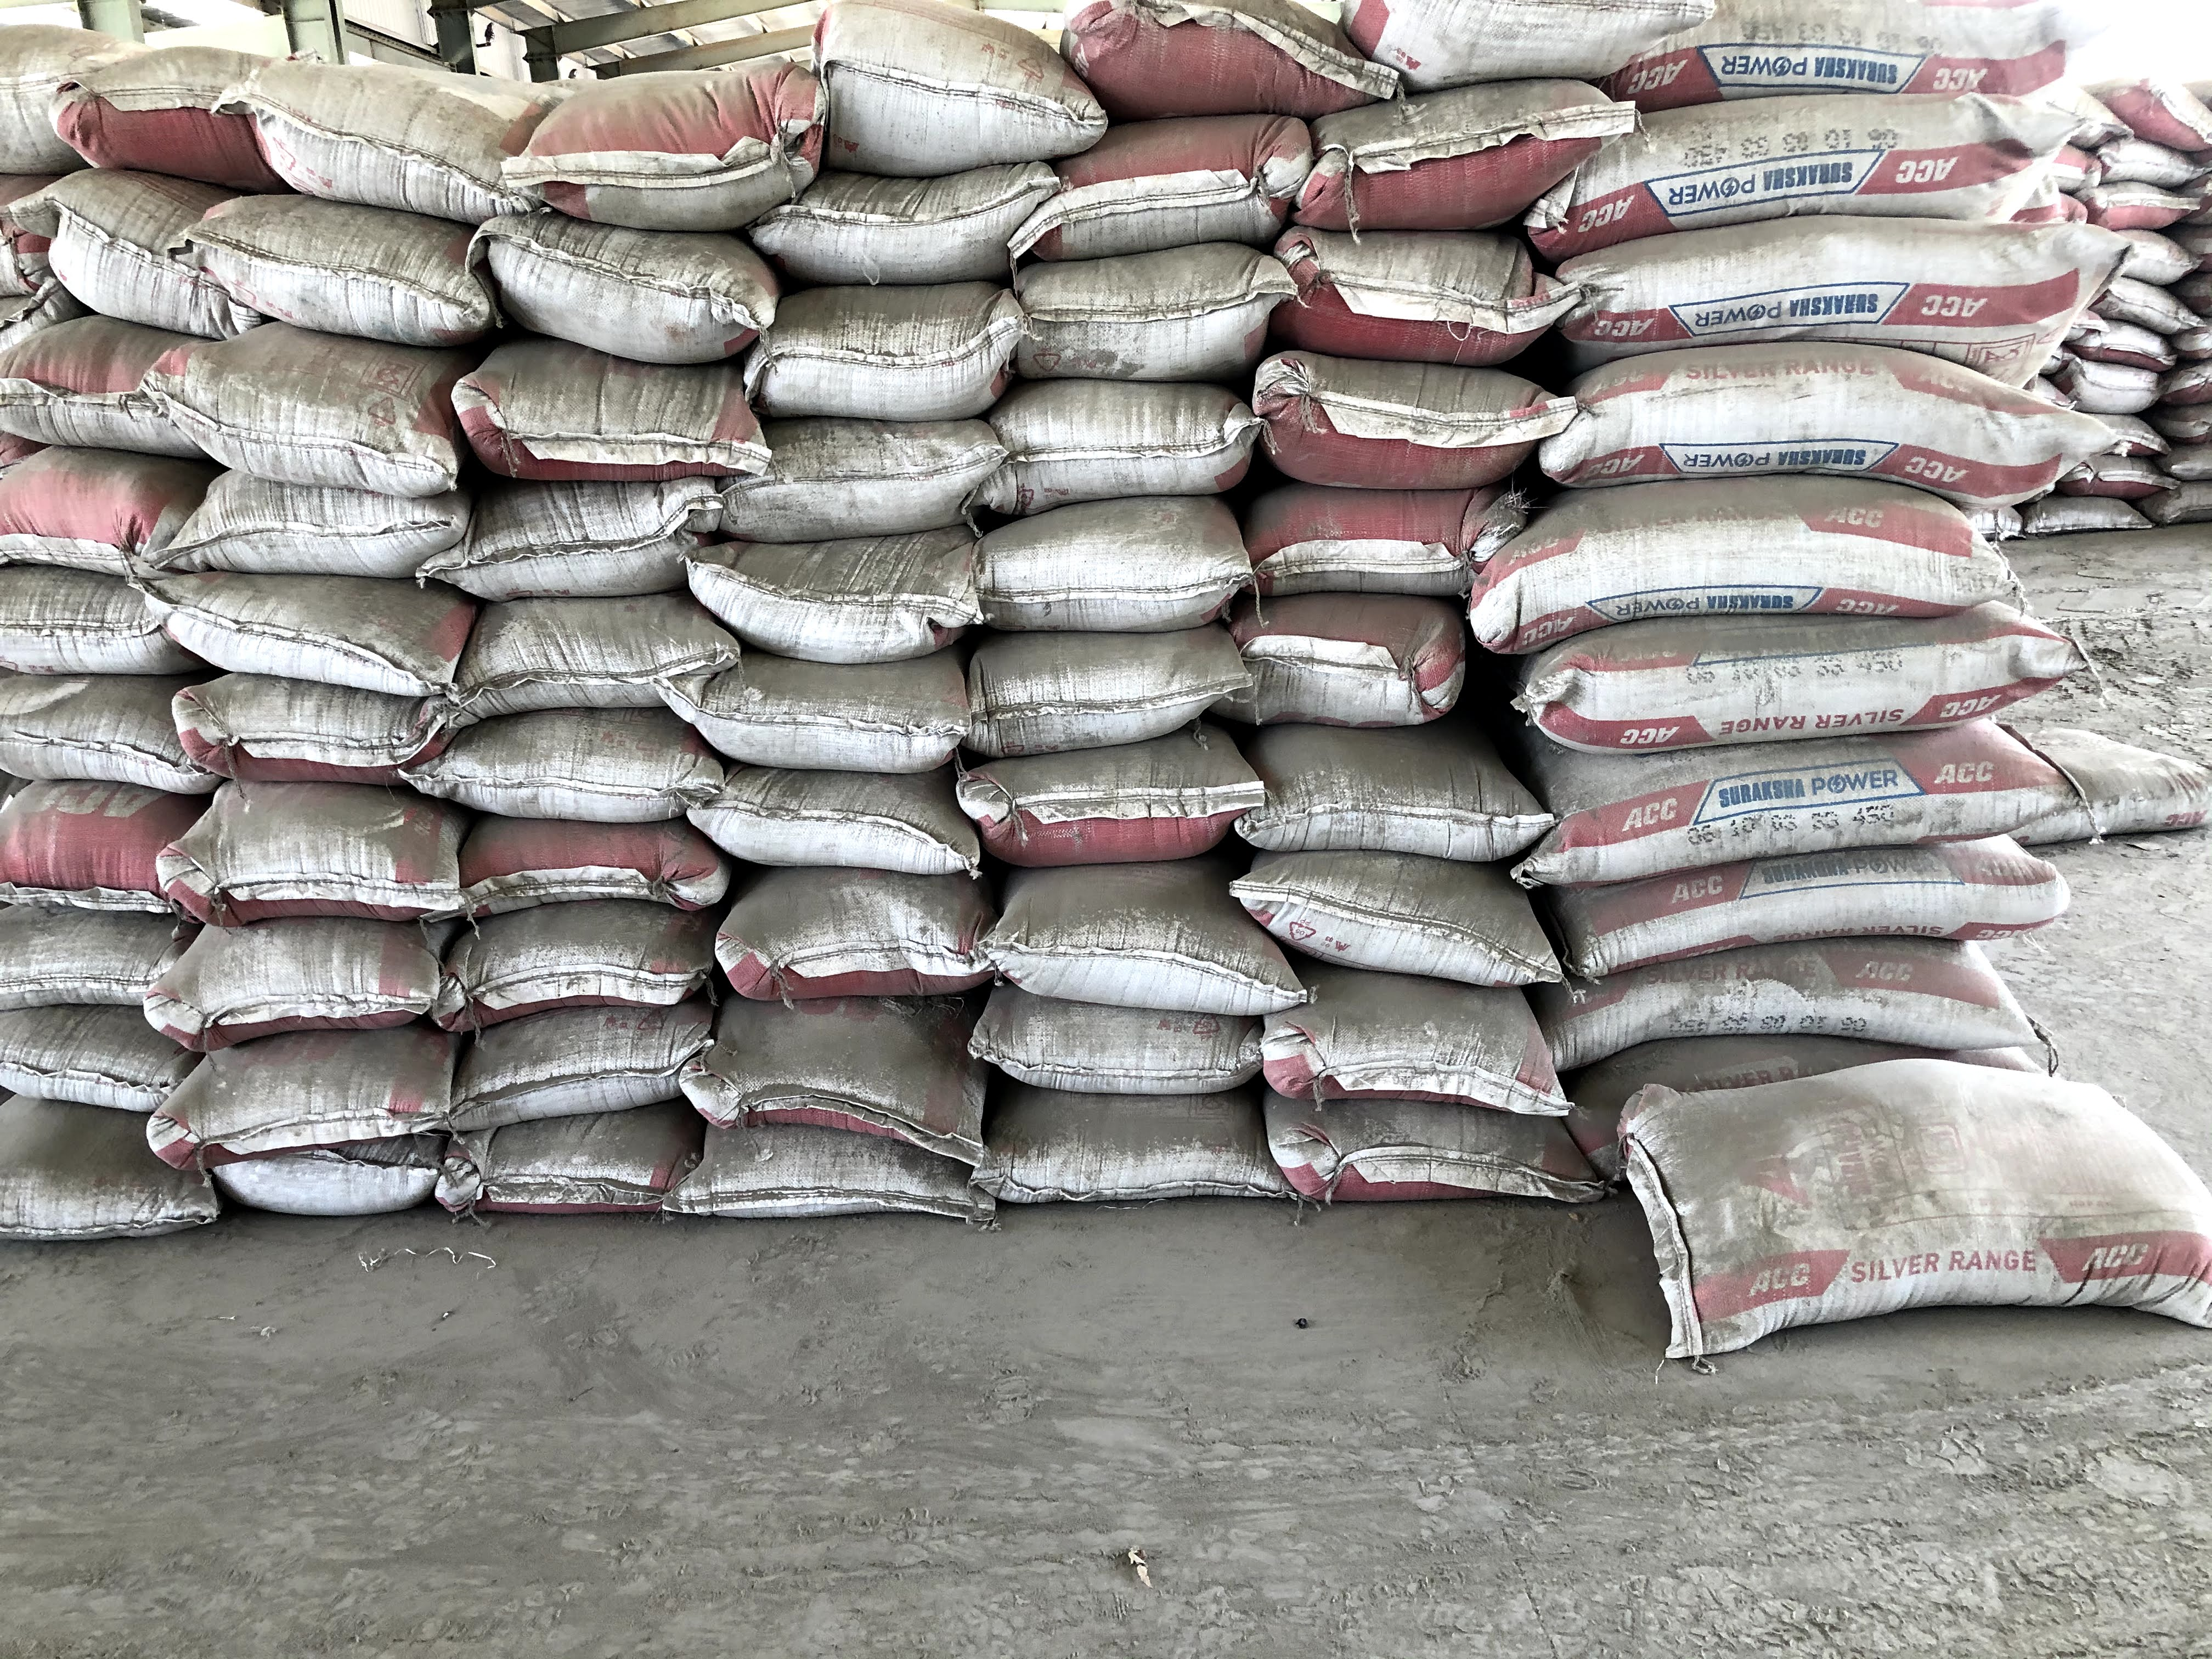cement bag: (1599, 1082, 2205, 1321), (1505, 484, 2059, 636), (1576, 727, 2064, 894), (1595, 202, 2069, 356), (1595, 356, 2059, 484), (1557, 962, 2081, 1075), (1505, 636, 2064, 727), (1611, 101, 2069, 202), (751, 244, 1031, 406), (970, 1114, 1277, 1249), (1238, 469, 1552, 598), (704, 509, 998, 641), (232, 52, 498, 197), (702, 1108, 970, 1249), (1289, 225, 1590, 349), (704, 641, 967, 779), (676, 779, 967, 899), (1576, 894, 2081, 962), (199, 756, 418, 908), (470, 483, 721, 613), (991, 633, 1238, 765), (1031, 125, 1282, 254), (989, 387, 1231, 518), (531, 84, 728, 244), (183, 336, 418, 471), (798, 21, 1047, 145), (991, 765, 1237, 890), (702, 1000, 984, 1108), (207, 197, 498, 301), (1000, 1004, 1277, 1114), (484, 244, 728, 368), (1308, 345, 1552, 469), (26, 167, 226, 317), (193, 1023, 423, 1152), (197, 455, 441, 575), (989, 518, 1238, 633), (1338, 986, 1568, 1108), (1313, 124, 1590, 225), (1313, 866, 1559, 979), (484, 368, 721, 483), (1000, 890, 1237, 1004), (1324, 1108, 1568, 1218), (1031, 254, 1231, 387), (199, 908, 423, 1023), (10, 1080, 197, 1218), (470, 613, 679, 735), (740, 896, 984, 1000), (437, 1115, 685, 1218), (751, 406, 998, 509), (10, 781, 207, 910), (165, 575, 441, 666), (475, 924, 712, 1028), (469, 824, 712, 924), (0, 317, 226, 423), (1251, 708, 1425, 842), (759, 162, 1031, 244), (1238, 598, 1425, 708), (16, 674, 207, 781), (7, 436, 155, 568), (469, 735, 679, 824), (70, 40, 254, 139), (475, 1028, 685, 1115), (193, 1152, 437, 1218), (10, 910, 169, 1009), (226, 676, 418, 756), (0, 568, 155, 643), (10, 1009, 169, 1080)
